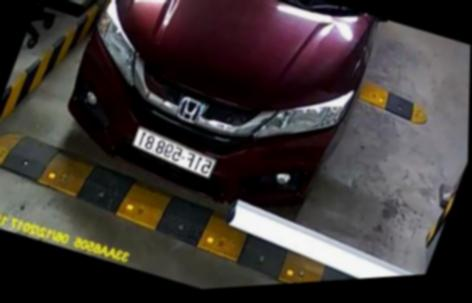License_Plate: (127, 123, 220, 193)
